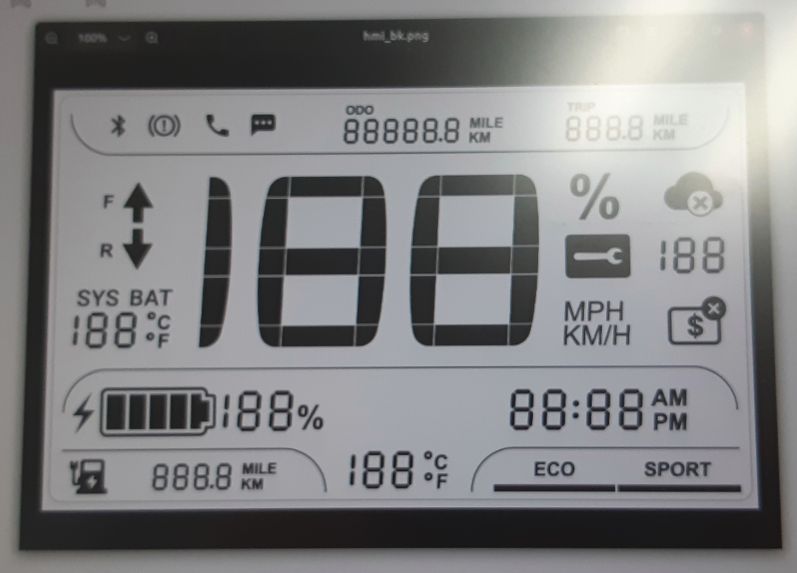bluetooth_on: (106, 110, 132, 141)
braking_on: (144, 110, 183, 142)
calling_on: (202, 111, 233, 141)
connection_lost: (661, 170, 727, 219)
error_code: (561, 230, 632, 281)
low_battery: (66, 455, 111, 497)
sms_on: (247, 110, 280, 141)
vin_id: (664, 293, 729, 348)
